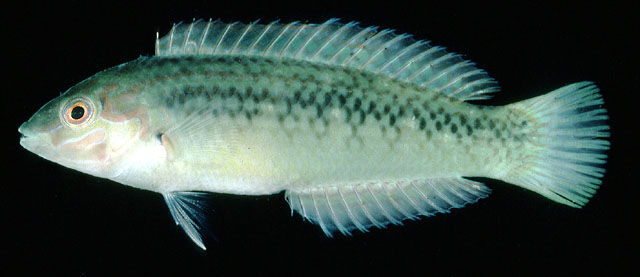fish: (17, 15, 610, 251)
